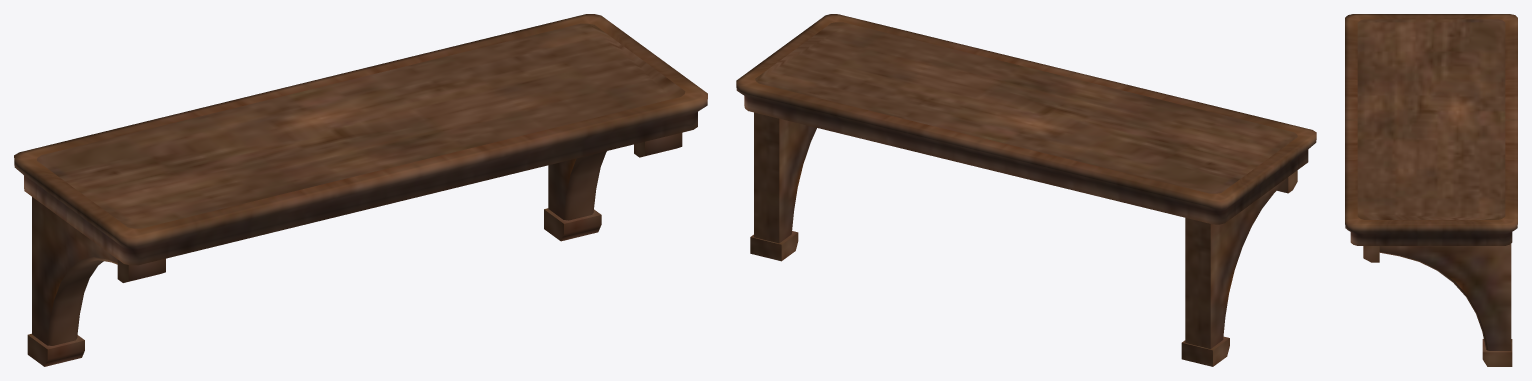
File: t2_shelf_ornamented_wooden.glb
The picture shows the model from 3 angles, left to right: view 1: azimuth 30°, elevation 25°; view 2: azimuth 150°, elevation 25°; view 3: azimuth 270°, elevation 25°; orthographic projection. The views are drawn at different scales.
Visible parts, largest first — view 1: castleprops_furniture_shelf_wall_01; view 2: castleprops_furniture_shelf_wall_01; view 3: castleprops_furniture_shelf_wall_01.
Part boxes in pixels (left/top/right/bottom): castleprops_furniture_shelf_wall_01: left=14, top=14, right=707, bottom=366; castleprops_furniture_shelf_wall_01: left=736, top=14, right=1316, bottom=366; castleprops_furniture_shelf_wall_01: left=1345, top=14, right=1517, bottom=366.
Bounding box in the file's own units: 1.97 × 0.6438 × 0.6795.
Materials: 1 (1 with a texture image).
